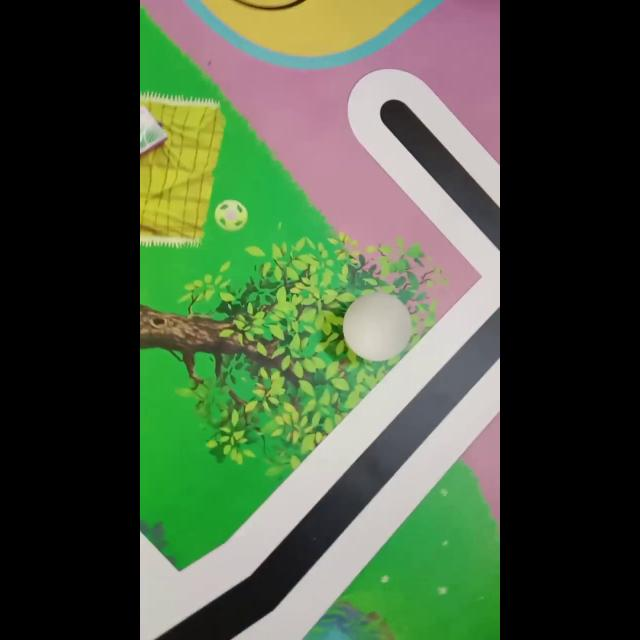white ball: (342, 290, 412, 362)
